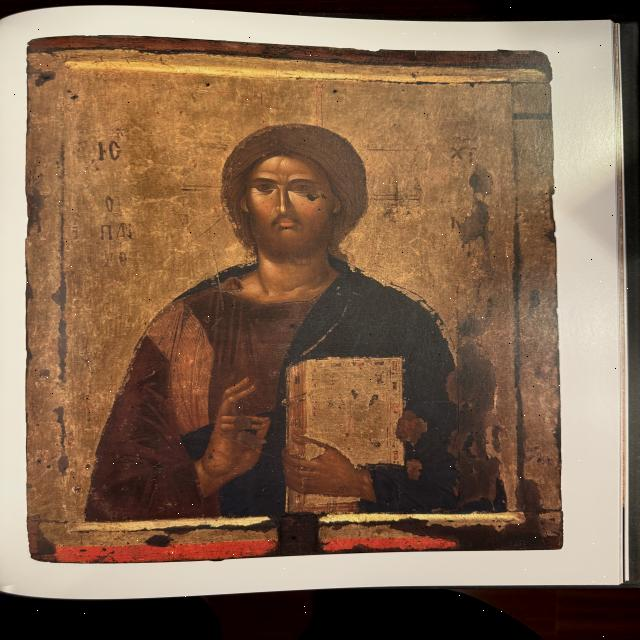book: (280, 356, 434, 513)
christ: (86, 92, 502, 516)
christ_hand: (179, 373, 279, 490)
